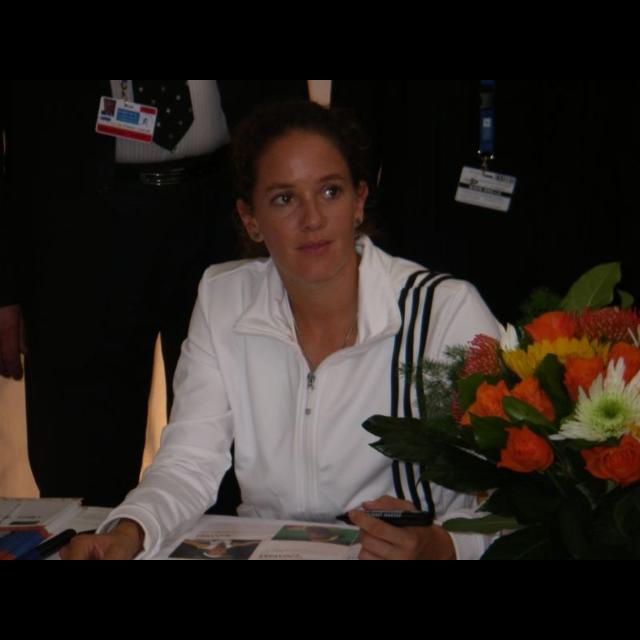Flower: (549, 358, 639, 439), (503, 336, 605, 376), (494, 427, 552, 481), (581, 434, 639, 484), (458, 382, 510, 426), (575, 307, 639, 341), (511, 374, 555, 422), (460, 336, 504, 380), (562, 354, 604, 398), (524, 313, 576, 342), (608, 340, 638, 380)
